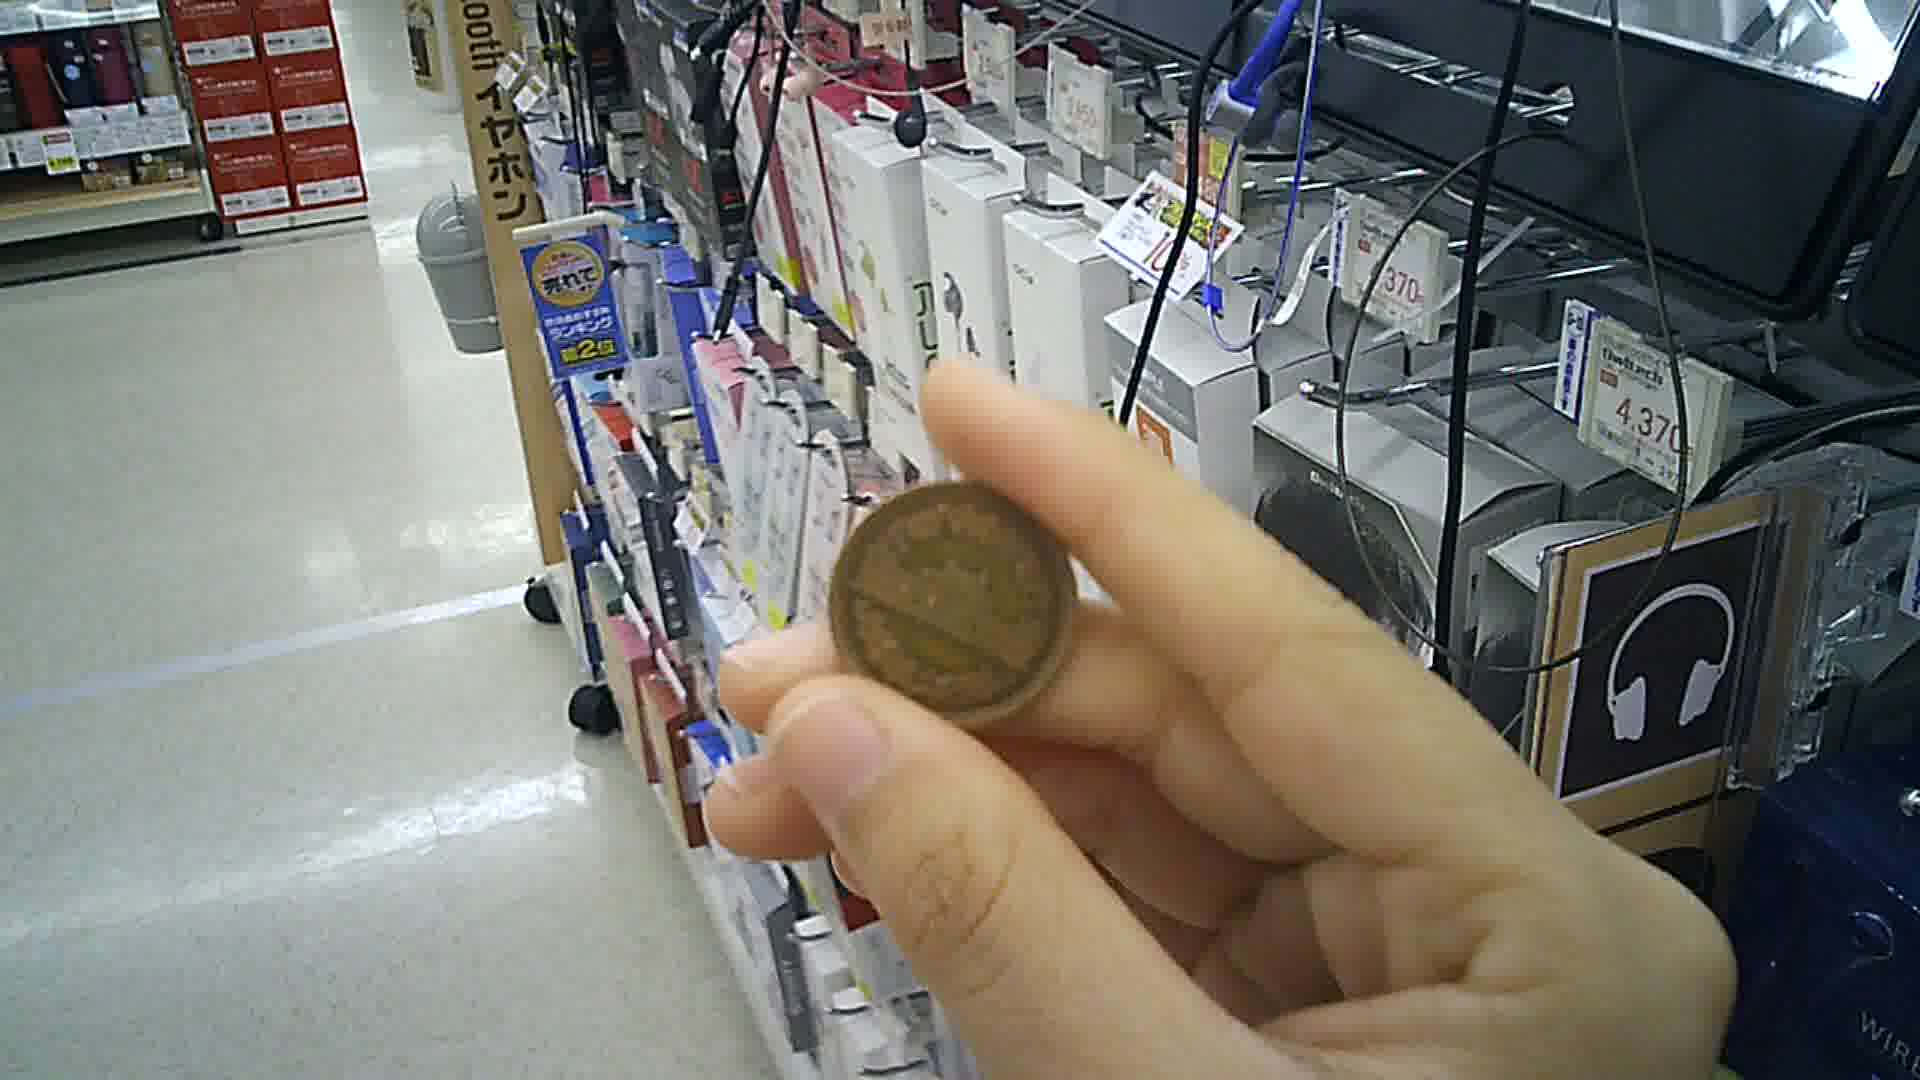10 Yen: (814, 472, 1092, 724)
